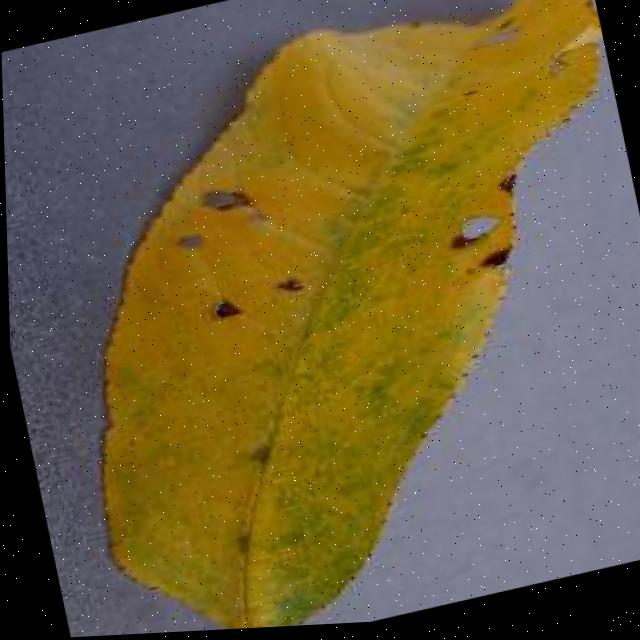Bacterial_spot: (436, 150, 537, 292), (268, 257, 317, 316), (214, 511, 262, 570), (202, 276, 248, 335), (241, 432, 284, 475)
